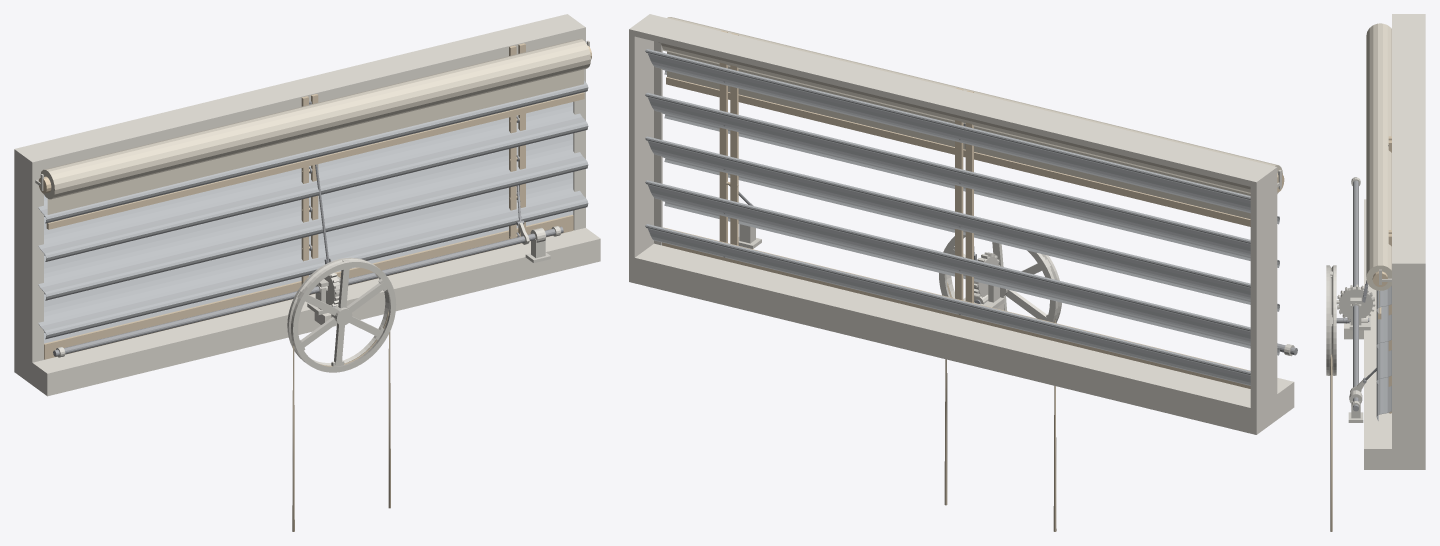
File: hp-louvre-and-blind.glb
3 views of the same model, side by side, from view 1: azimuth 30°, elevation 25°; view 2: azimuth 150°, elevation 25°; view 3: azimuth 270°, elevation 25° (orthographic). The views are drawn at different scales.
Visible parts, largest first — view 1: Blade_2, Blade_1, WallPlate_K, BlindRoll, Blade_3, CaseHead, BlindTail, ShutStrip, Blade_4, CaseJamb_L, BlindLath, PulleyRim_Q (+6 smaller); view 2: WallPlate_K, CaseHead, Blade_1, Blade_2, Blade_3, Blade_4, Blade_0, BlindRoll, CaseJamb_L, BlindTail, CaseJamb_R, BlindLath (+13 smaller); view 3: CaseHead, BlindRoll, CaseJamb_R, WallPlate_K, Shafting_T, PulleyRim_Q, WormWheel_O, Blade_1, Blade_2, Rope_R, Blade_3, Blade_4 (+3 smaller).
Boxes of the visible parts, bbox=[...] form: Blade_2: bbox=[38, 133, 588, 300]; Blade_1: bbox=[38, 172, 588, 339]; WallPlate_K: bbox=[14, 228, 600, 396]; BlindRoll: bbox=[41, 39, 590, 199]; Blade_3: bbox=[38, 102, 588, 261]; CaseHead: bbox=[14, 14, 585, 167]; BlindTail: bbox=[47, 69, 583, 222]; ShutStrip: bbox=[44, 214, 573, 359]; Blade_4: bbox=[38, 80, 588, 223]; CaseJamb_L: bbox=[14, 154, 37, 362]; BlindLath: bbox=[46, 92, 584, 229]; PulleyRim_Q: bbox=[287, 257, 396, 372]; WallPlate_K: bbox=[629, 243, 1294, 434]; CaseHead: bbox=[629, 14, 1277, 188]; Blade_1: bbox=[646, 181, 1279, 355]; Blade_2: bbox=[646, 137, 1279, 311]; Blade_3: bbox=[646, 93, 1279, 267]; Blade_4: bbox=[646, 50, 1279, 224]; Blade_0: bbox=[646, 225, 1250, 385]; BlindRoll: bbox=[658, 17, 1282, 193]; CaseJamb_L: bbox=[1250, 173, 1277, 409]; BlindTail: bbox=[667, 51, 1250, 219]; CaseJamb_R: bbox=[629, 35, 653, 257]; BlindLath: bbox=[666, 77, 1250, 226]; CaseHead: bbox=[1392, 14, 1425, 268]; BlindRoll: bbox=[1366, 23, 1391, 290]; CaseJamb_R: bbox=[1392, 268, 1425, 448]; WallPlate_K: bbox=[1364, 199, 1425, 469]; Shafting_T: bbox=[1353, 177, 1358, 411]; PulleyRim_Q: bbox=[1326, 265, 1336, 375]; WormWheel_O: bbox=[1339, 286, 1372, 318]; Blade_1: bbox=[1376, 377, 1391, 420]; Blade_2: bbox=[1376, 341, 1391, 385]; Rope_R: bbox=[1330, 354, 1332, 531]; Blade_3: bbox=[1376, 305, 1391, 349]; Blade_4: bbox=[1376, 286, 1391, 313].
Bounding box in the file's own units: 2.44 × 1.69 × 0.4102.
